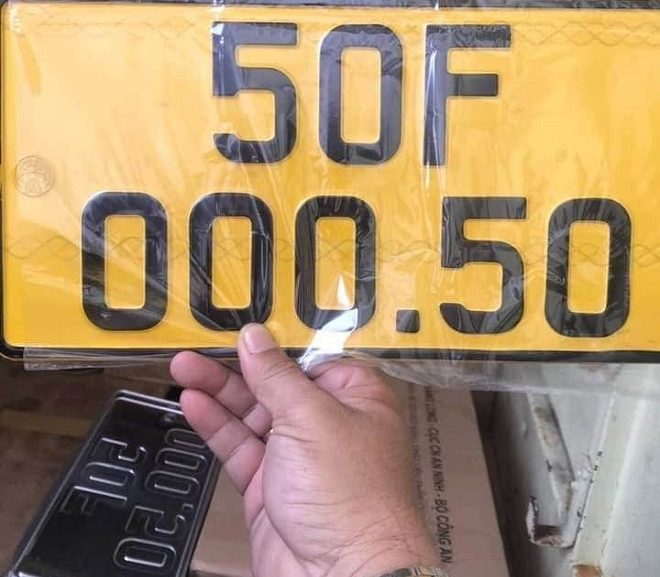plate: (0, 1, 657, 363)
